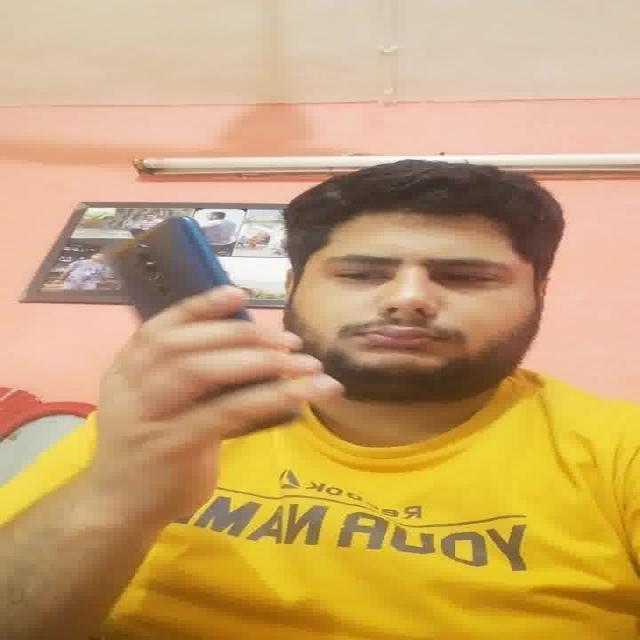phone: (114, 212, 306, 450)
